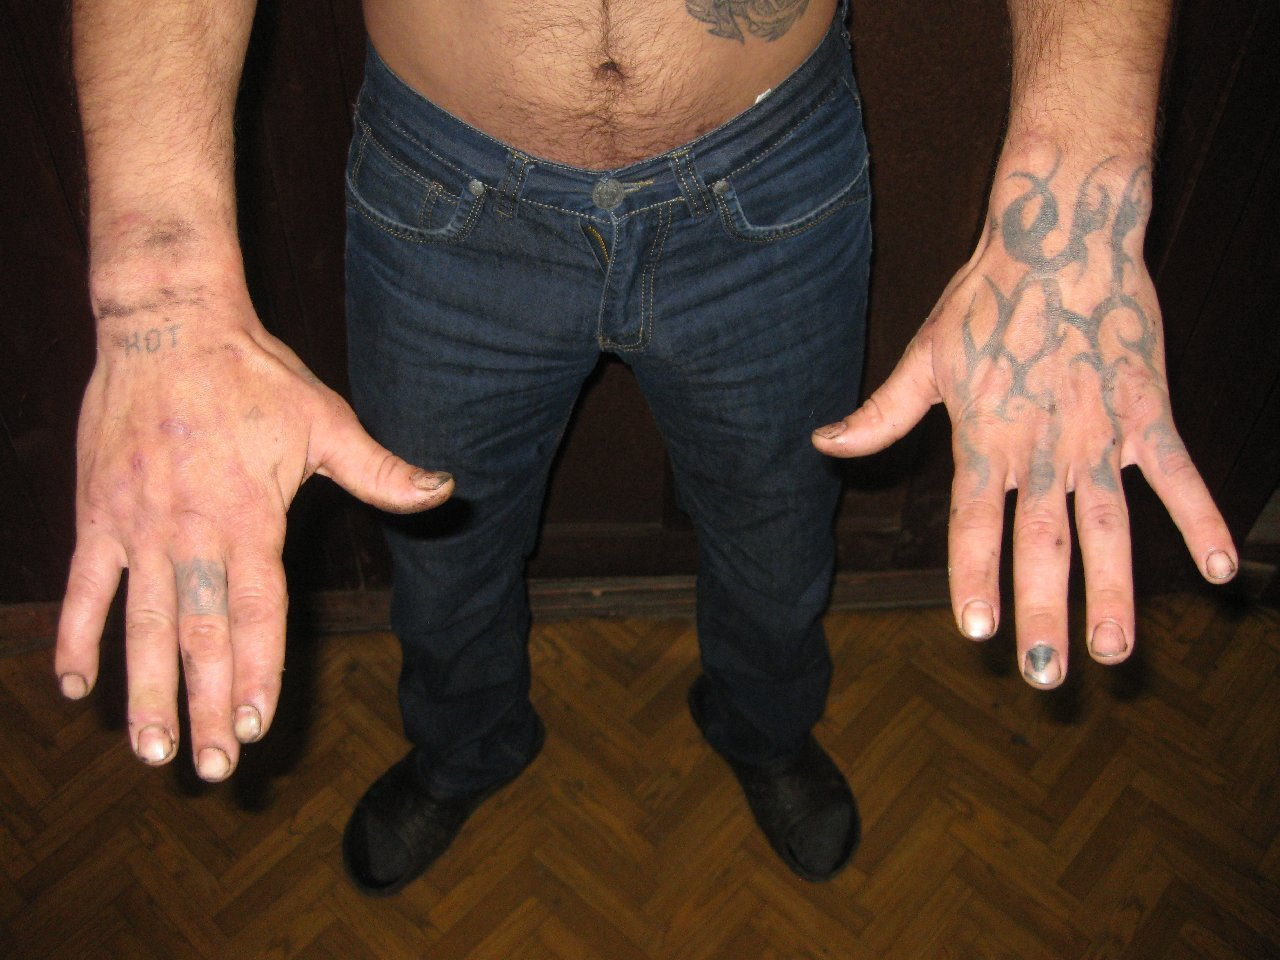tatu3_bukva: (112, 325, 194, 358)
